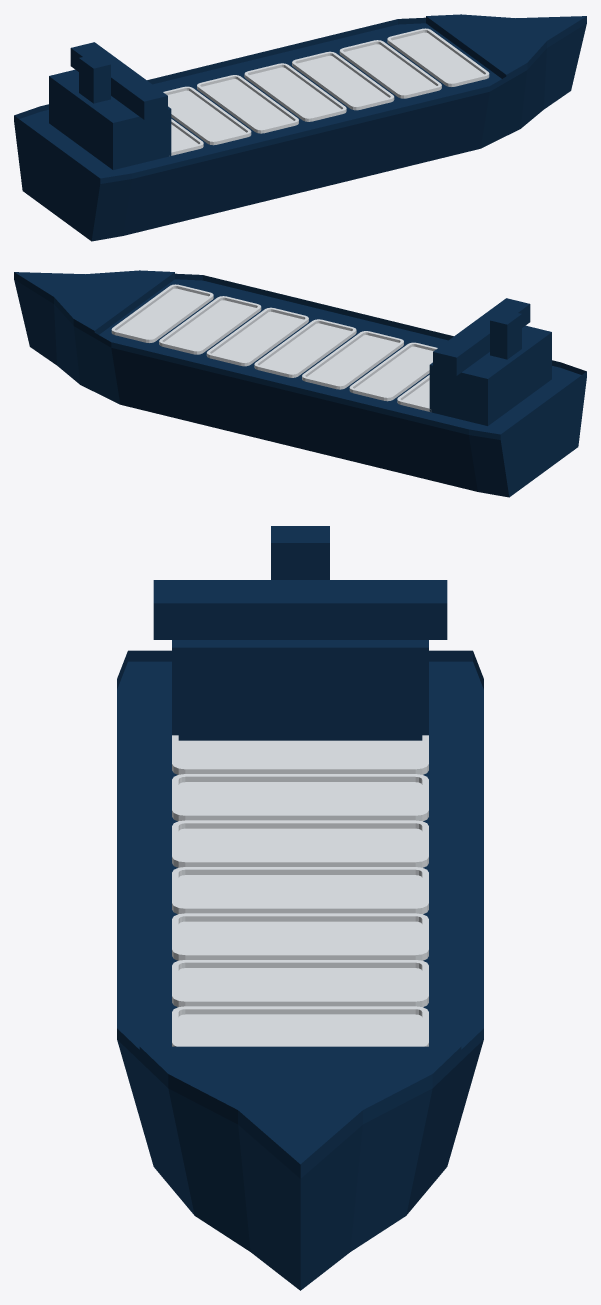
Rendered from vessel-hold-07.glb.
3 views of the same model, one above another, from view 1: azimuth 30°, elevation 25°; view 2: azimuth 150°, elevation 25°; view 3: azimuth 270°, elevation 25° (orthographic). The views are drawn at different scales.
Visible parts, largest first — view 1: hull, superstructure, detail_forecastle, detail_bulwark, hold_03, hold_04, hold_01, hold_02, hold_05, hold_06, detail_funnel, hold_07; view 2: hull, superstructure, detail_forecastle, detail_bulwark, hold_03, hold_04, hold_01, hold_02, hold_05, hold_06, detail_funnel, hold_07; view 3: hull, superstructure, detail_forecastle, hold_05, hold_04, hold_02, hold_03, hold_06, hold_01, hold_07, detail_bulwark, detail_funnel.
Boxes of the visible parts, box(x1,y1,x2,y2) form: hull: box(14, 23, 586, 241); superstructure: box(49, 42, 171, 169); detail_forecastle: box(426, 14, 586, 81); detail_bulwark: box(14, 17, 586, 183); hold_03: box(292, 51, 394, 110); hold_04: box(244, 63, 346, 121); hold_01: box(387, 28, 489, 86); hold_02: box(339, 40, 441, 98); hold_05: box(197, 75, 298, 133); hold_06: box(163, 86, 251, 145); detail_funnel: box(79, 53, 110, 103); hold_07: box(171, 119, 203, 155); hull: box(14, 279, 586, 497); superstructure: box(429, 298, 551, 425); detail_forecastle: box(14, 270, 174, 337); detail_bulwark: box(14, 273, 586, 439); hold_03: box(206, 307, 308, 366); hold_04: box(254, 319, 356, 377); hold_01: box(111, 284, 213, 342); hold_02: box(159, 296, 261, 354); hold_05: box(302, 331, 403, 389); hold_06: box(349, 342, 437, 401); detail_funnel: box(490, 309, 521, 359); hold_07: box(397, 375, 431, 411); hull: box(117, 661, 483, 1290); superstructure: box(153, 580, 447, 740); detail_forecastle: box(139, 1046, 461, 1176); hold_05: box(172, 820, 428, 867); hold_04: box(172, 867, 428, 914); hold_02: box(172, 960, 428, 1007); hold_03: box(172, 913, 428, 960); hold_06: box(172, 774, 428, 821); hold_01: box(172, 1006, 428, 1046); hold_07: box(172, 735, 428, 774); detail_bulwark: box(117, 650, 483, 1178); detail_funnel: box(271, 526, 329, 579).
Size of the model in its own units: 10 by 2.63 by 3.
